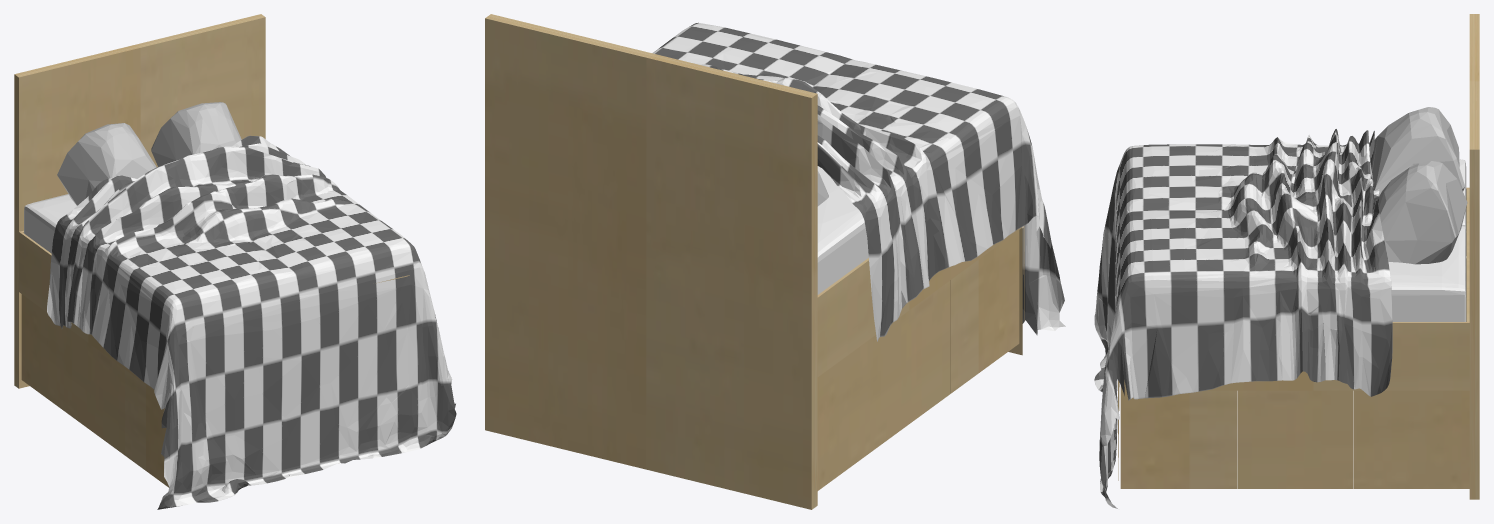
The model's file is sh-bs0-bed-with-texture.glb.
3 views of the same model, side by side, from view 1: azimuth 30°, elevation 25°; view 2: azimuth 150°, elevation 25°; view 3: azimuth 270°, elevation 25° (orthographic). The views are drawn at different scales.
Visible parts, largest first — view 1: blanket_Plane.003, bed_frame_Cube, pillow_Cube.003, matress_Cube.001; view 2: bed_frame_Cube, blanket_Plane.003, matress_Cube.001; view 3: blanket_Plane.003, bed_frame_Cube, pillow_Cube.003, matress_Cube.001.
Boxes of the visible parts, x1,y1,x2,y2 form: blanket_Plane.003: (47,135,456,509); bed_frame_Cube: (14,14,409,487); pillow_Cube.003: (57,102,241,205); matress_Cube.001: (24,194,76,253); bed_frame_Cube: (485,14,1024,509); blanket_Plane.003: (652,22,1065,341); matress_Cube.001: (817,166,868,294); blanket_Plane.003: (1094,129,1392,508); bed_frame_Cube: (1118,14,1479,499); pillow_Cube.003: (1371,107,1467,264); matress_Cube.001: (1388,159,1466,321).
Size of the model in its own units: 0.9998 by 1 by 0.9974.
4 materials, 2 textured.
